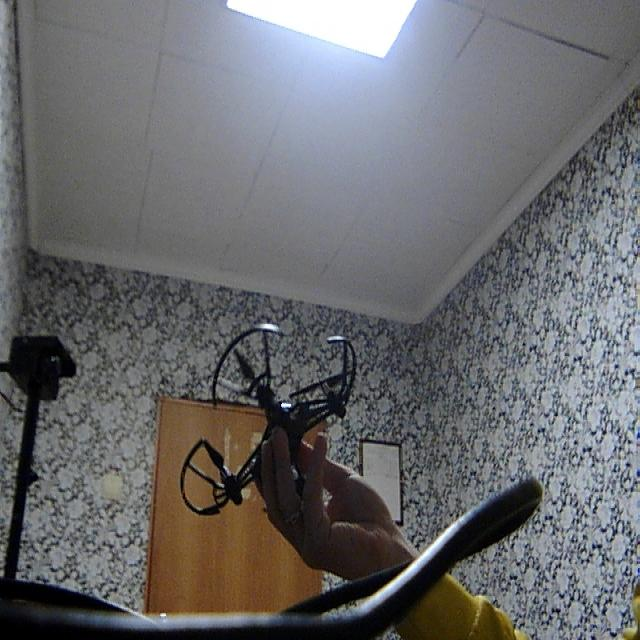drone: (176, 310, 366, 550)
